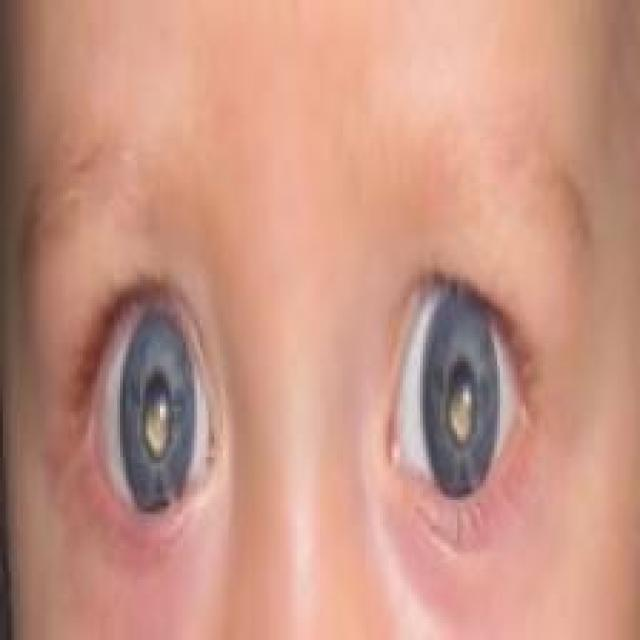reflexo-alterado: (351, 238, 558, 536), (66, 297, 242, 523)
